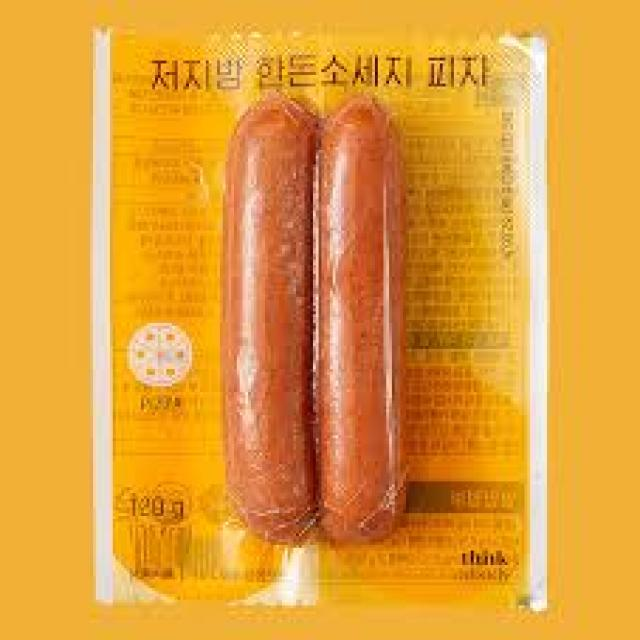sausage: (181, 86, 451, 545)
